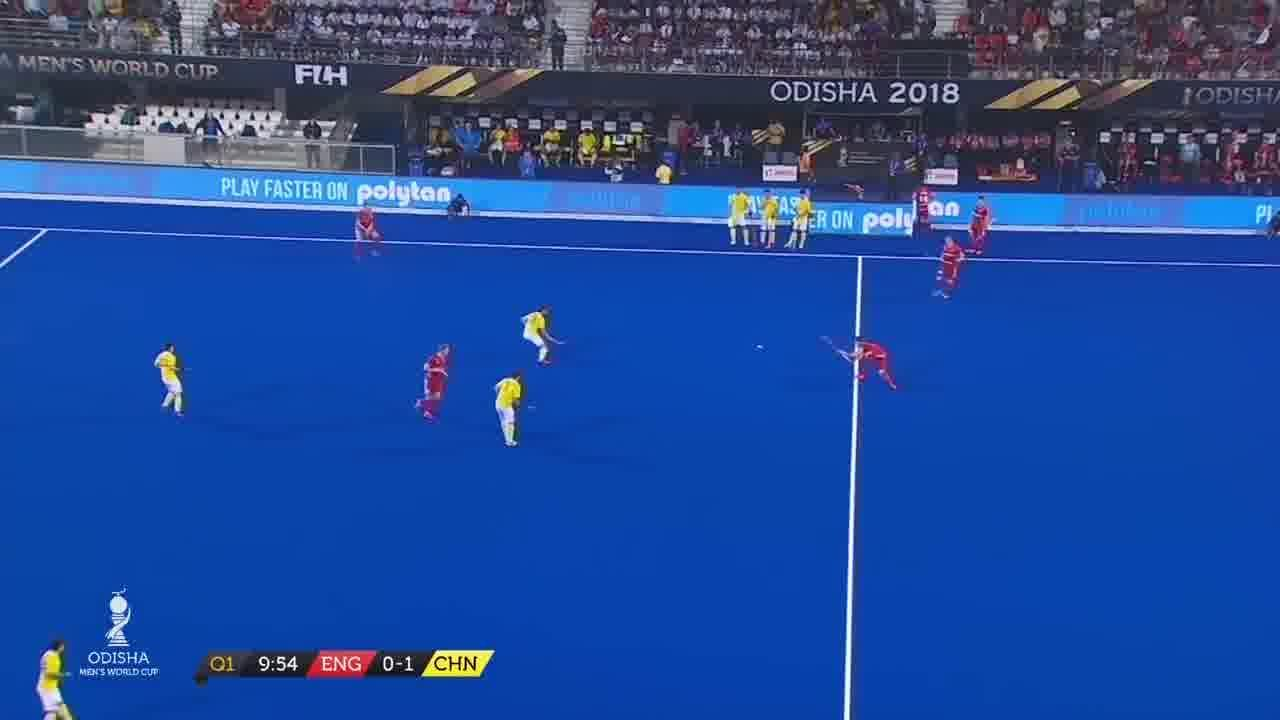ball: (754, 340, 768, 356)
